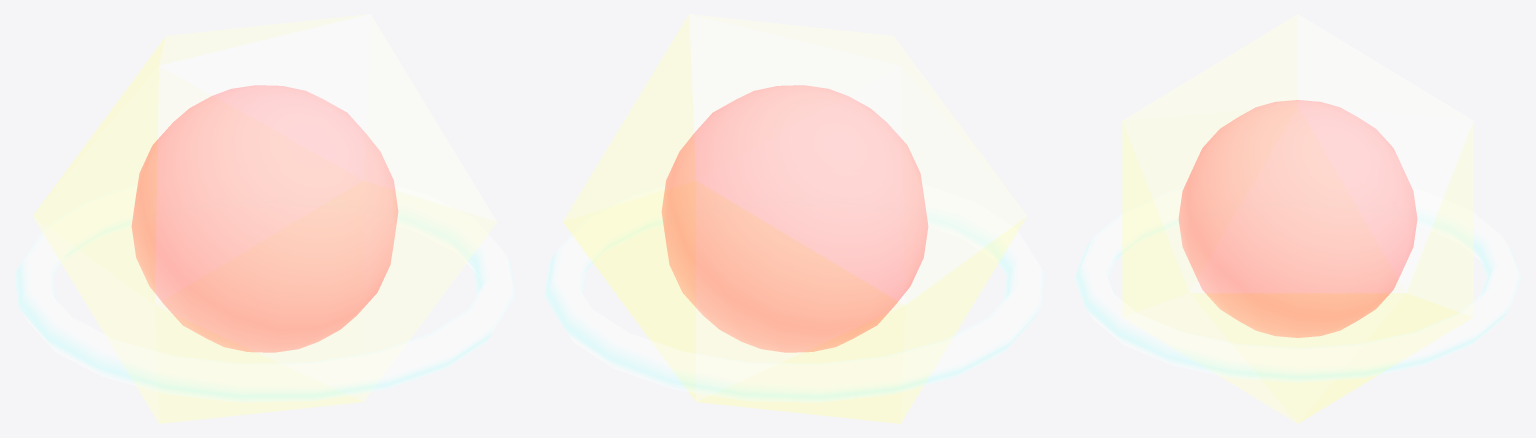
File: blast_grenade.glb
3 renders of one model, left to right at view 1: azimuth 30°, elevation 25°; view 2: azimuth 150°, elevation 25°; view 3: azimuth 270°, elevation 25°, orthographic. The views are drawn at different scales.
Bounding box in the file's own units: 2.06 × 1.62 × 2.06.
